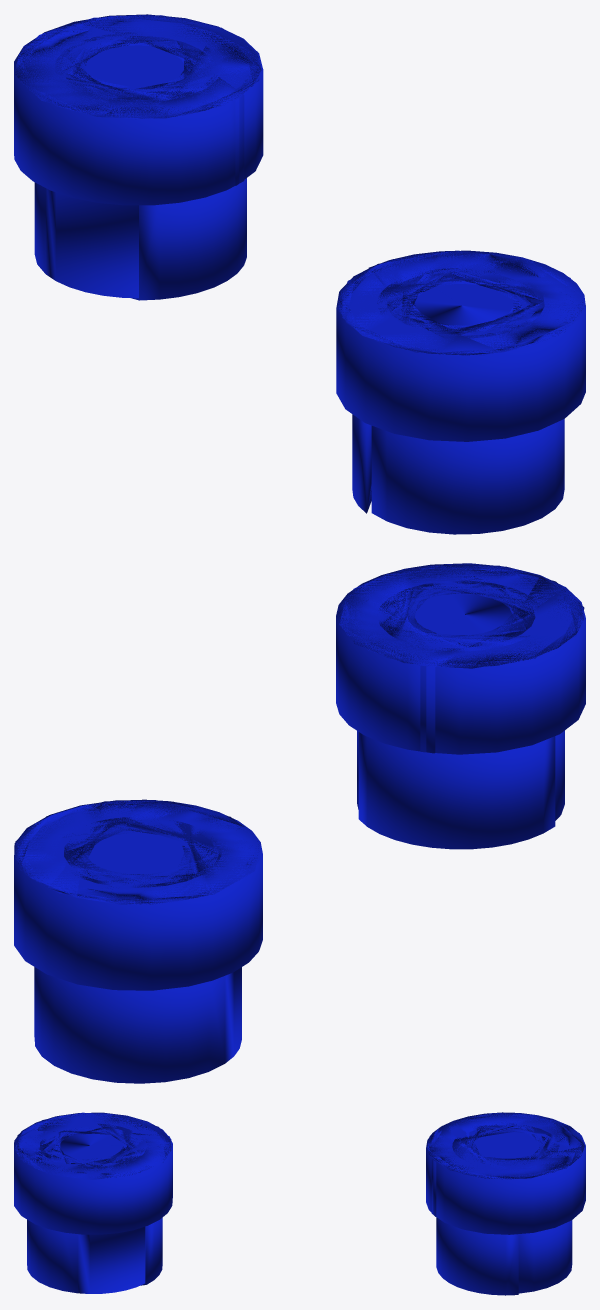
The model's file is tuyeau_element_000037.obj.
The picture shows the model from 3 angles, top to bottom: view 1: azimuth 30°, elevation 25°; view 2: azimuth 150°, elevation 25°; view 3: azimuth 270°, elevation 25°; orthographic projection. The views are drawn at different scales.
Parts seen in each view (by area): view 1: tuyeau1_Cube.014, tuyeau2_Cube.017; view 2: tuyeau2_Cube.017, tuyeau1_Cube.014; view 3: tuyeau1_Cube.014, tuyeau2_Cube.017.
Part boxes in pixels (box(x1,y1,x2,y2)): tuyeau1_Cube.014: box(14, 14, 263, 300); tuyeau2_Cube.017: box(336, 250, 585, 534); tuyeau2_Cube.017: box(336, 563, 585, 849); tuyeau1_Cube.014: box(14, 799, 262, 1083); tuyeau1_Cube.014: box(426, 1112, 585, 1295); tuyeau2_Cube.017: box(14, 1112, 172, 1293).
Bounding box in the file's own units: 3526 × 2917 × 12618.
